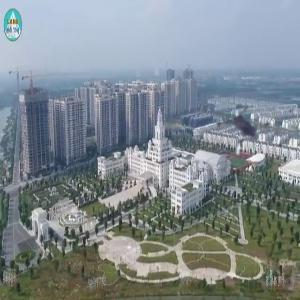drone: (198, 96, 283, 181)
